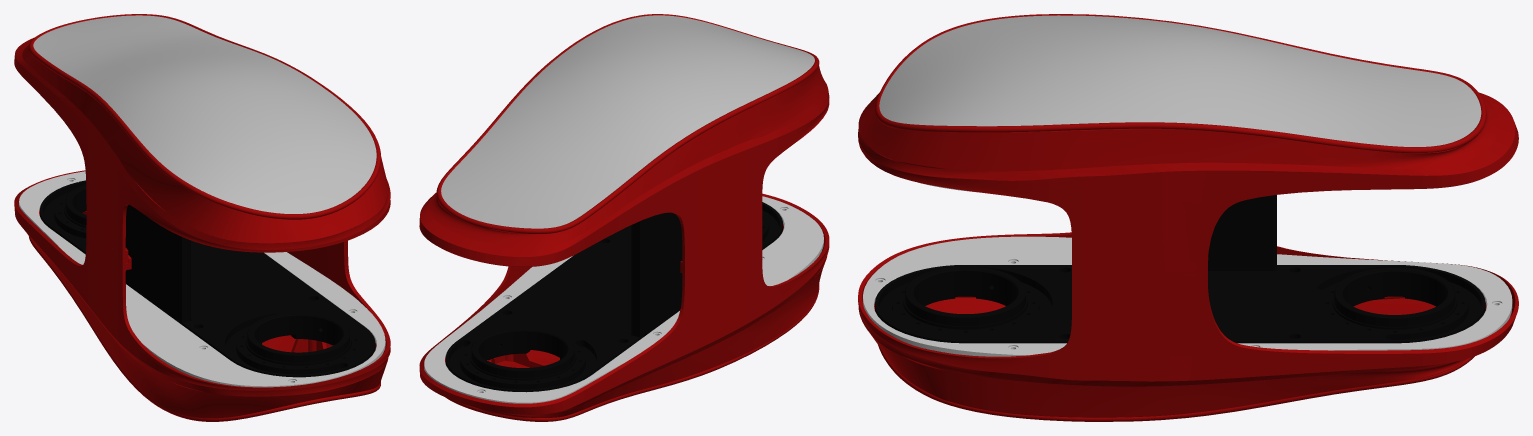
3 renders of one model, left to right at view 1: azimuth 30°, elevation 25°; view 2: azimuth 150°, elevation 25°; view 3: azimuth 270°, elevation 25°, orthographic. The views are drawn at different scales.
Visible parts, largest first — view 1: link2; view 2: link2; view 3: link2.
Part boxes in pixels (<box>): link2: <box>14,14,390,421</box>; link2: <box>419,14,829,421</box>; link2: <box>858,14,1518,421</box>.
Bounding box in the file's own units: 0.2442 × 0.3061 × 0.5466.
